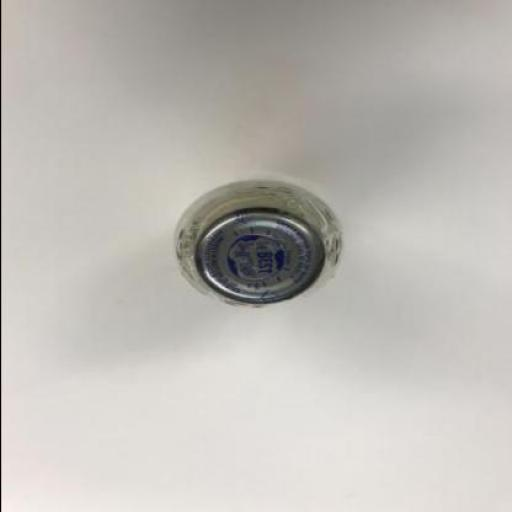metal: (170, 178, 343, 309)
